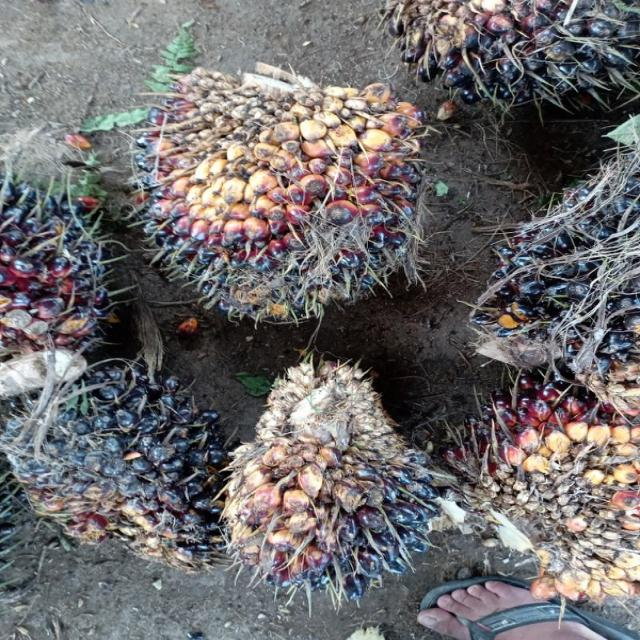fraksi 00: (131, 79, 456, 335), (0, 359, 245, 585), (233, 392, 454, 607), (487, 138, 640, 400), (381, 0, 640, 115)
